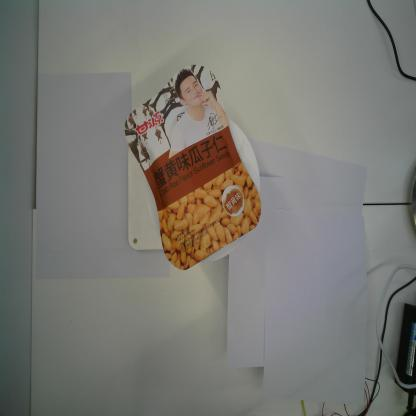Dried Fruit: (124, 64, 262, 272)
